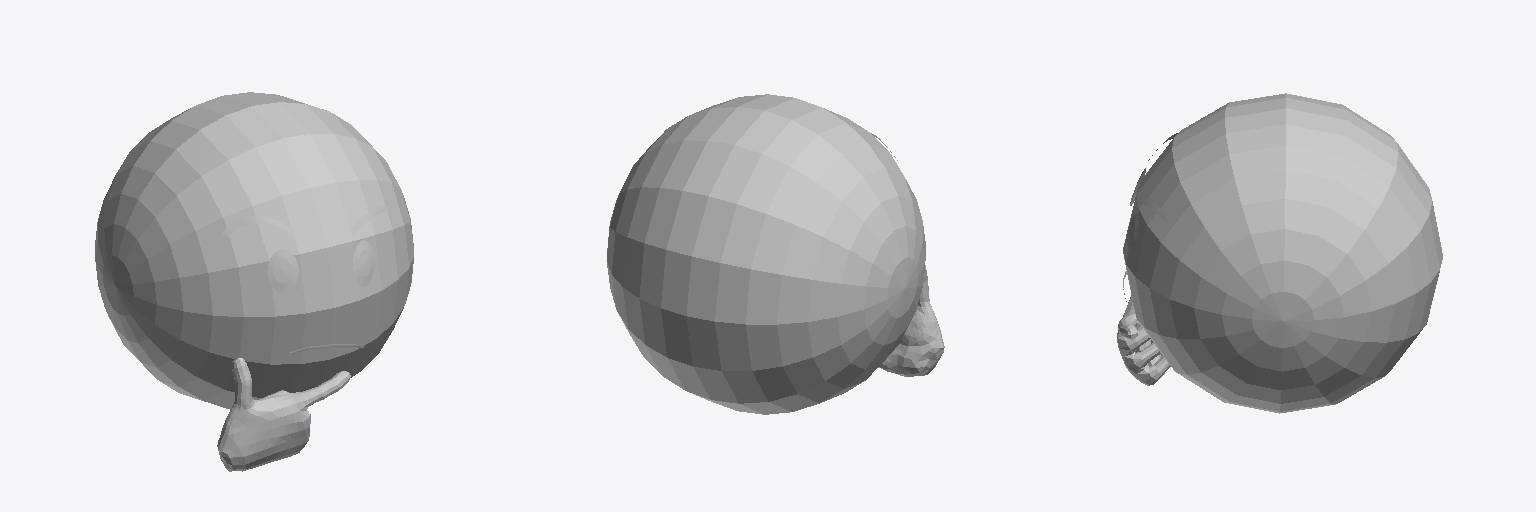
File: Thinking.obj
3 views of the same model, side by side, from view 1: azimuth 30°, elevation 25°; view 2: azimuth 150°, elevation 25°; view 3: azimuth 270°, elevation 25° (orthographic).
Visible parts, largest first — view 1: ___065, Hand, Eyes_round_000, Eyebrows_028; view 2: ___065, Hand; view 3: ___065, Hand.
Part boxes in pixels (left/top/right/bottom): ___065: left=95, top=92, right=413, bottom=409; Hand: left=217, top=358, right=350, bottom=471; Eyes_round_000: left=267, top=240, right=374, bottom=292; Eyebrows_028: left=223, top=206, right=387, bottom=236; ___065: left=607, top=94, right=925, bottom=414; Hand: left=878, top=265, right=944, bottom=376; ___065: left=1123, top=93, right=1442, bottom=413; Hand: left=1117, top=295, right=1170, bottom=385.
Bounding box in the file's own units: 4 × 4.07 × 4.07.